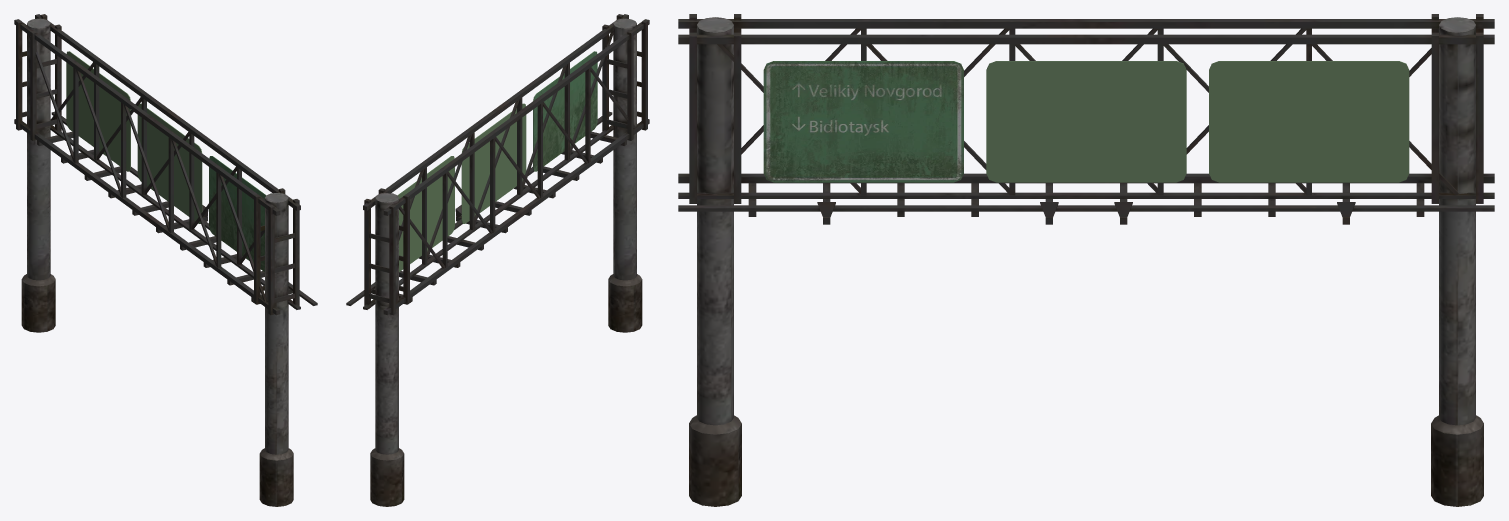
The model's file is sign-gantry.lod1.glb.
3 renders of one model, left to right at view 1: azimuth 30°, elevation 25°; view 2: azimuth 150°, elevation 25°; view 3: azimuth 270°, elevation 25°, orthographic. The views are drawn at different scales.
Visible parts, largest first — view 1: SM_Bilboard_01.001_Material_0, SM_Bilboard_01.001_MI_Bilboard_02_0, SM_Bilboard_01.001_MI_Bilboard_01_0; view 2: SM_Bilboard_01.001_Material_0, SM_Bilboard_01.001_MI_Bilboard_02_0, SM_Bilboard_01.001_MI_Bilboard_01_0; view 3: SM_Bilboard_01.001_Material_0, SM_Bilboard_01.001_MI_Bilboard_02_0, SM_Bilboard_01.001_MI_Bilboard_01_0.
Part boxes in pixels (box(x1,y1,x2,y2)): SM_Bilboard_01.001_Material_0: box(14, 14, 317, 506); SM_Bilboard_01.001_MI_Bilboard_02_0: box(66, 51, 202, 223); SM_Bilboard_01.001_MI_Bilboard_01_0: box(209, 156, 266, 271); SM_Bilboard_01.001_Material_0: box(346, 14, 649, 506); SM_Bilboard_01.001_MI_Bilboard_02_0: box(397, 103, 526, 271); SM_Bilboard_01.001_MI_Bilboard_01_0: box(533, 51, 597, 171); SM_Bilboard_01.001_Material_0: box(678, 14, 1494, 506); SM_Bilboard_01.001_MI_Bilboard_02_0: box(986, 61, 1409, 182); SM_Bilboard_01.001_MI_Bilboard_01_0: box(763, 61, 963, 182).
Size of the model in its own units: 1.37 by 7.64 by 12.
Materials: 3 (2 with a texture image).
